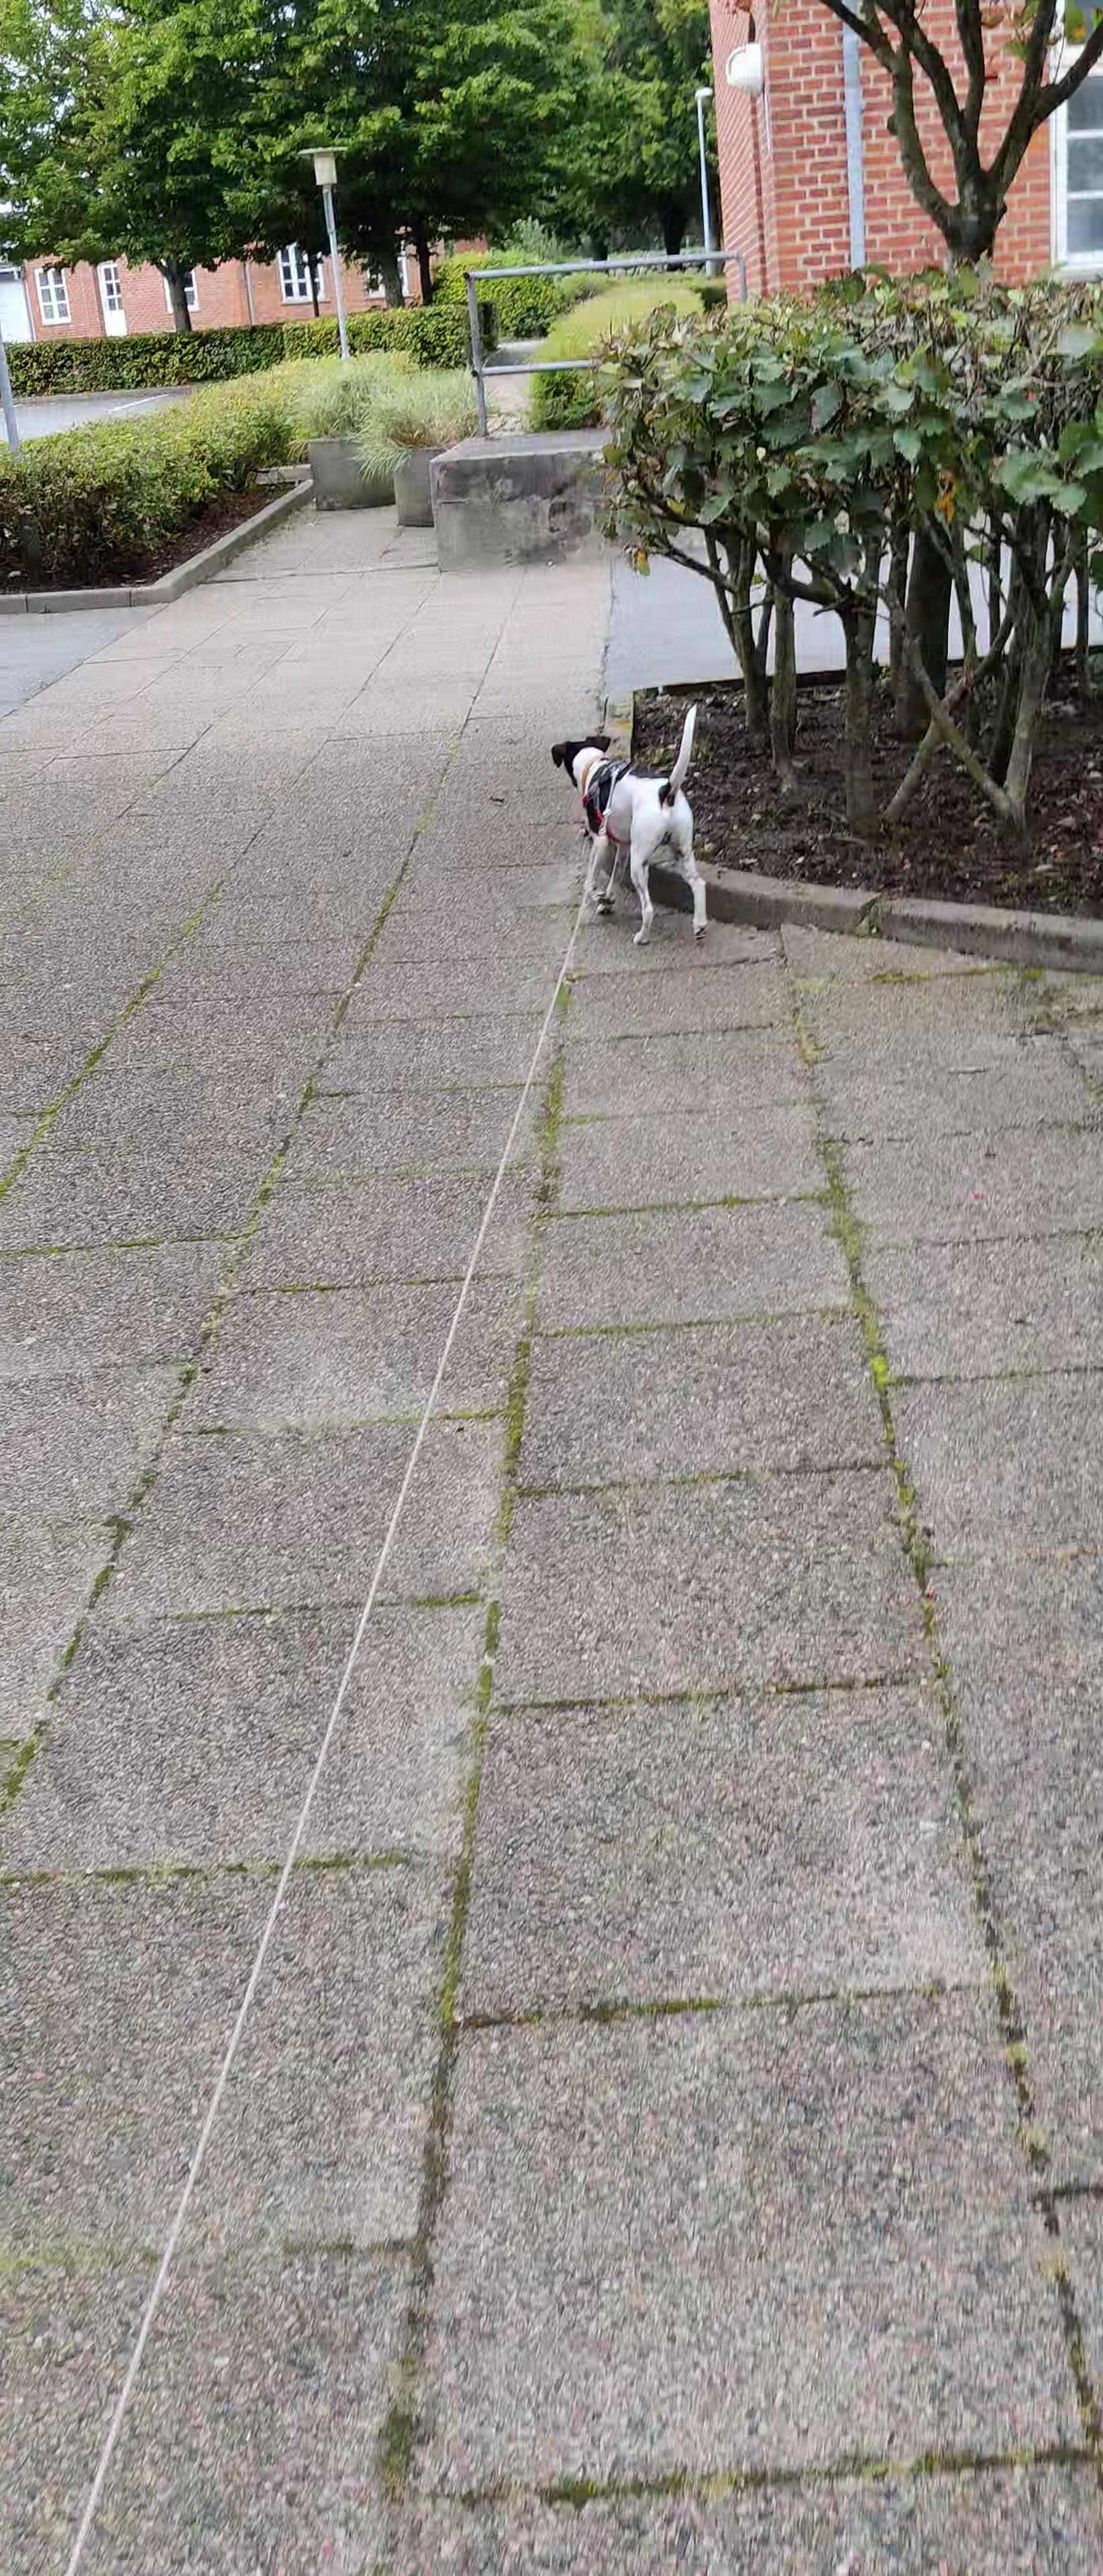Dog: (541, 698, 708, 950)
